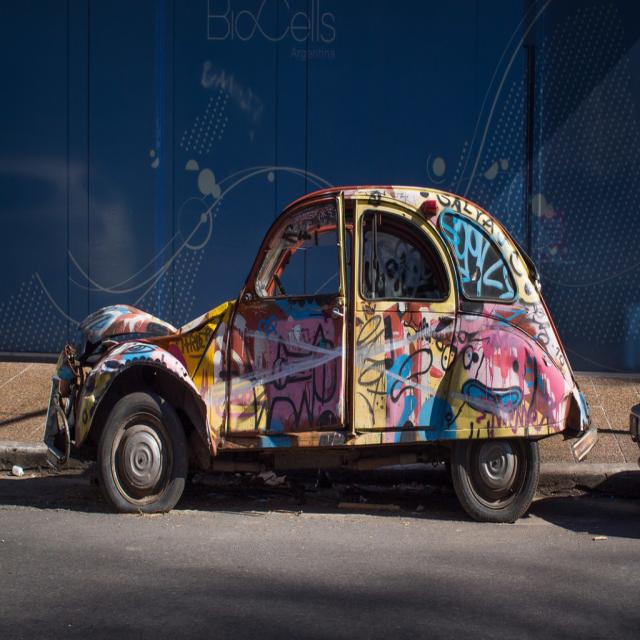car: (42, 173, 580, 527)
